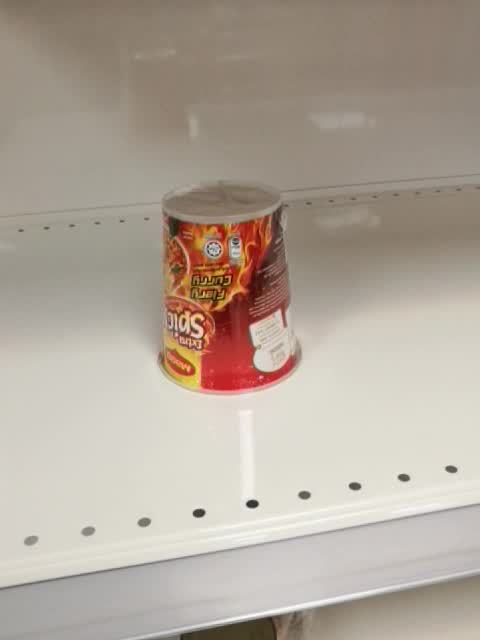maggi: (156, 177, 304, 397)
